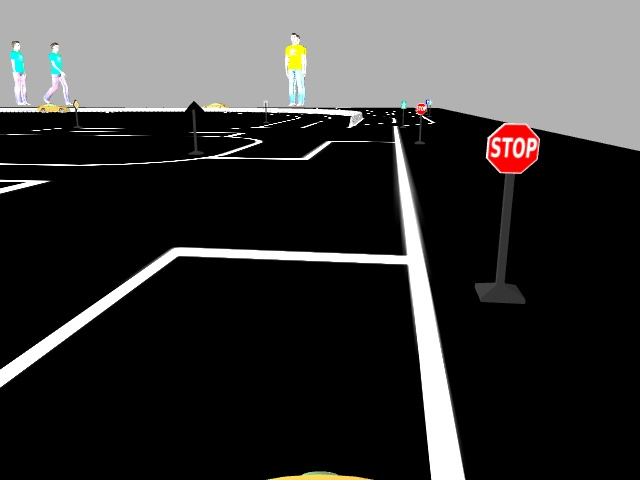Stop: (477, 119, 540, 172)
